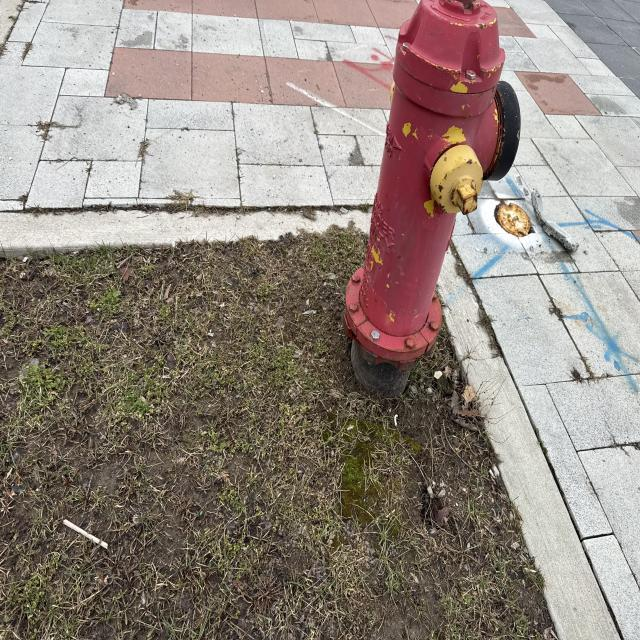Fire hydrant: (341, 0, 522, 372)
